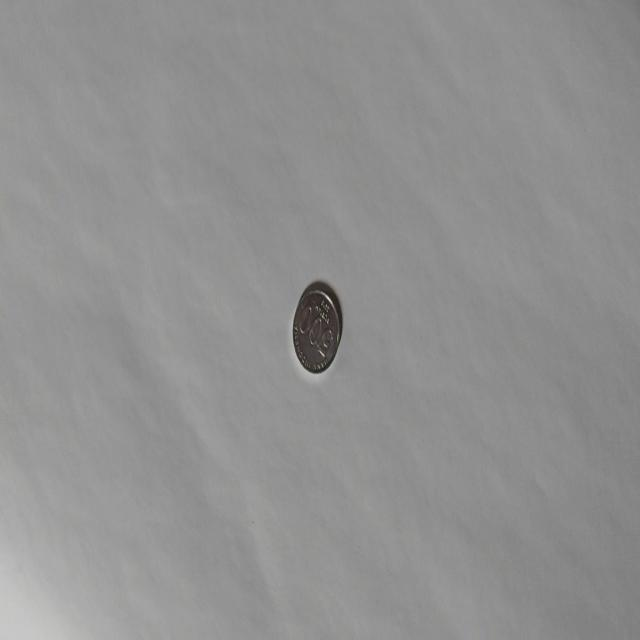lima ratus rupiah: (291, 281, 342, 375)
